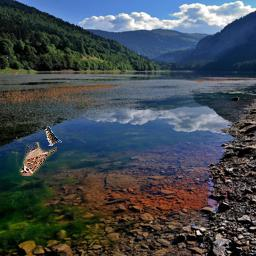Sparrow: (19, 142, 57, 176), (44, 126, 62, 146)
